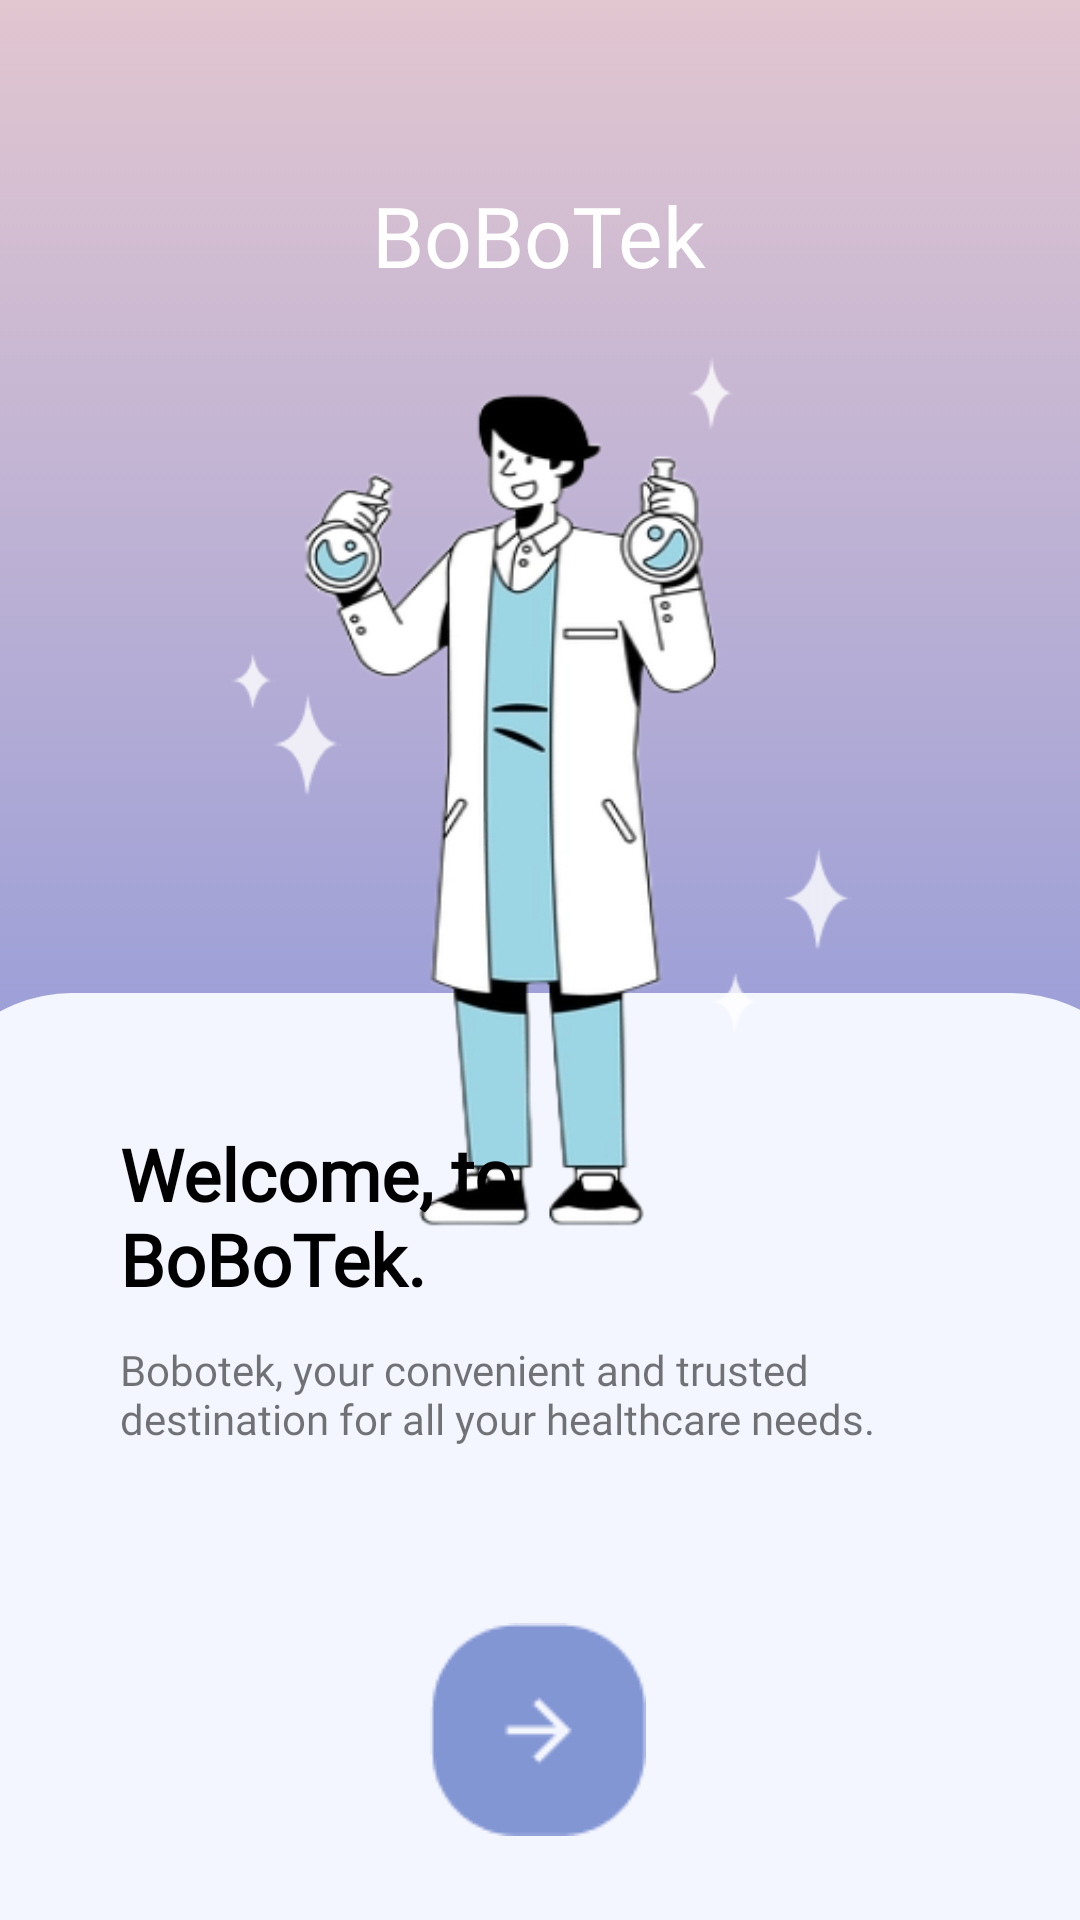

Point at icon controls on the screen. Image size 1080px x 1920px, points as (x,y).
panah: (539,1729)
